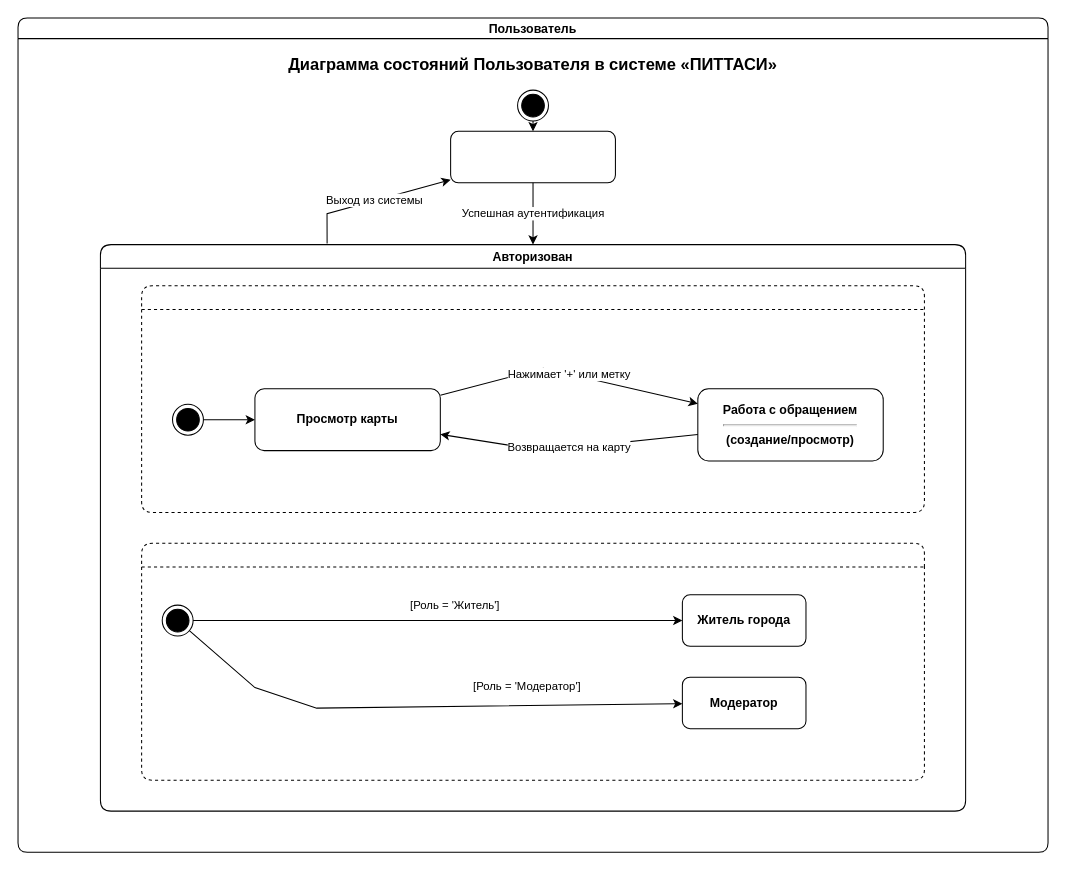
The diagram is 1066 pixels wide and 870 high, and some of its shapes have lost their labels. The shapes that lost their labels are listed below. From the top down, each one's box as (x1, y1, x2, y2) in pixels, then its label:
(450, 130, 615, 183): Неавторизован
(141, 285, 924, 512): Состояния деятельности
(141, 542, 924, 780): Ролевые состояния
